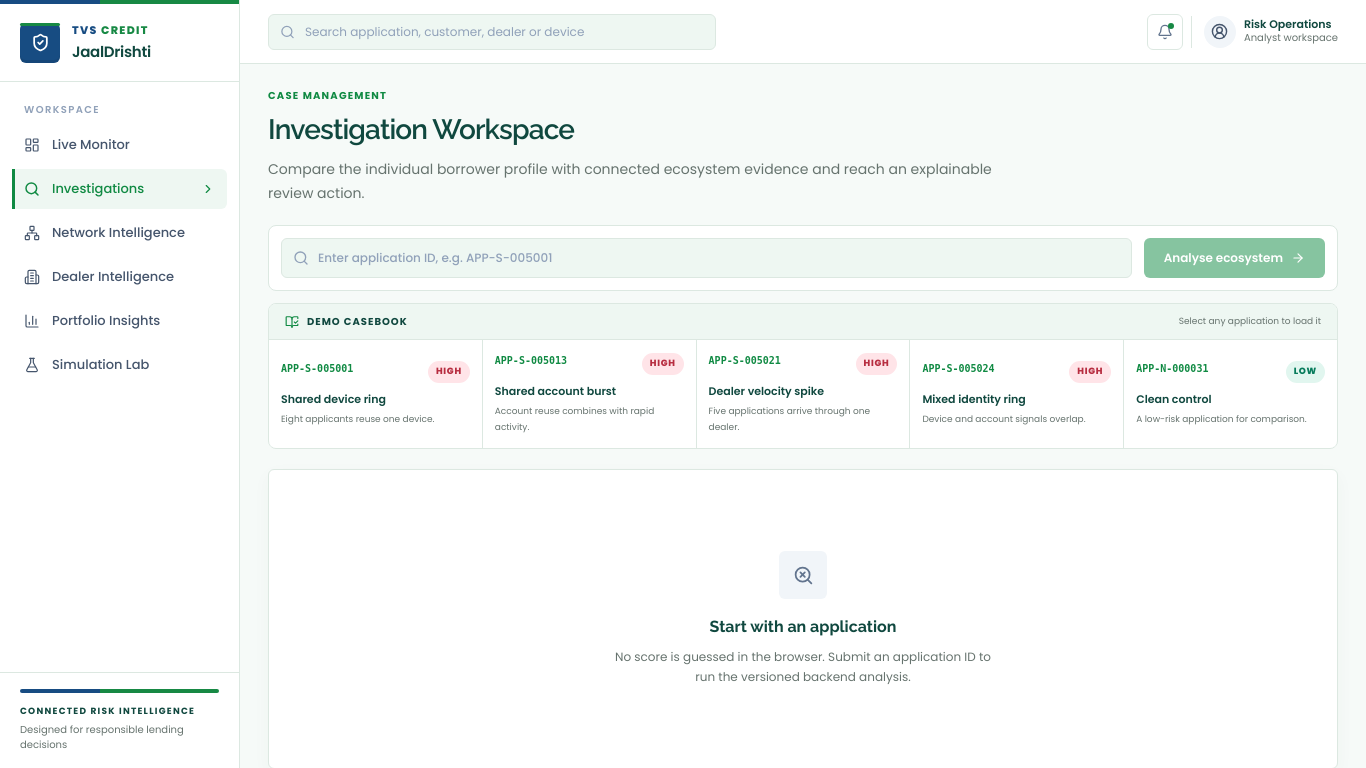
Test: application investigation › loads a selected demo application and renders evidence and action
What coordinates should you click on to do the following:
click the button with aria-label "Load APP-S-005001: Shared device ring"
I would click on:
 (375, 394)
Its box is [269, 340, 482, 448].
(page scrolled)
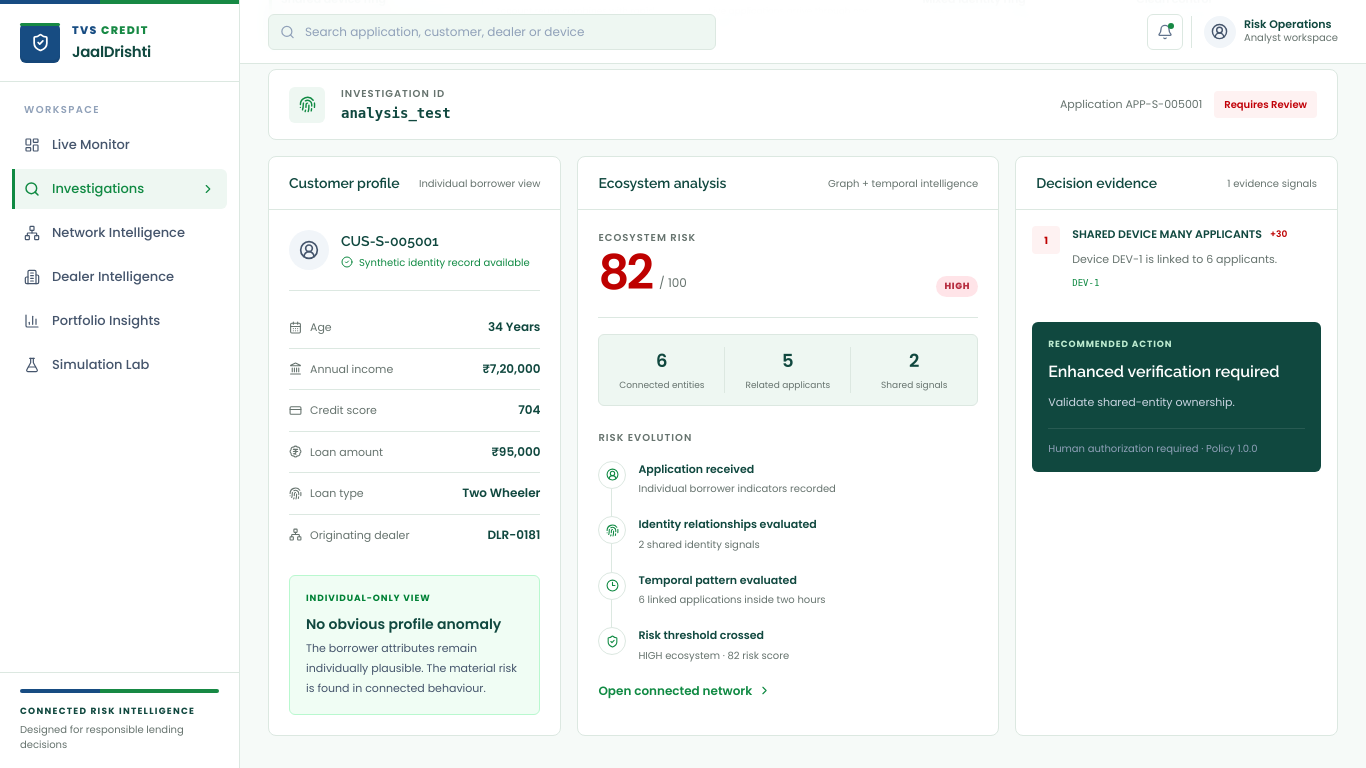
Expected: the heading "Enhanced verification required" is shown, [1048, 360, 1305, 384]
Expected: the text "Device DEV-1 is linked to 6 applicants." is shown, [1072, 248, 1287, 268]
Expected: the element named "Risk score 82 out of 100" is shown, [598, 230, 696, 297]
